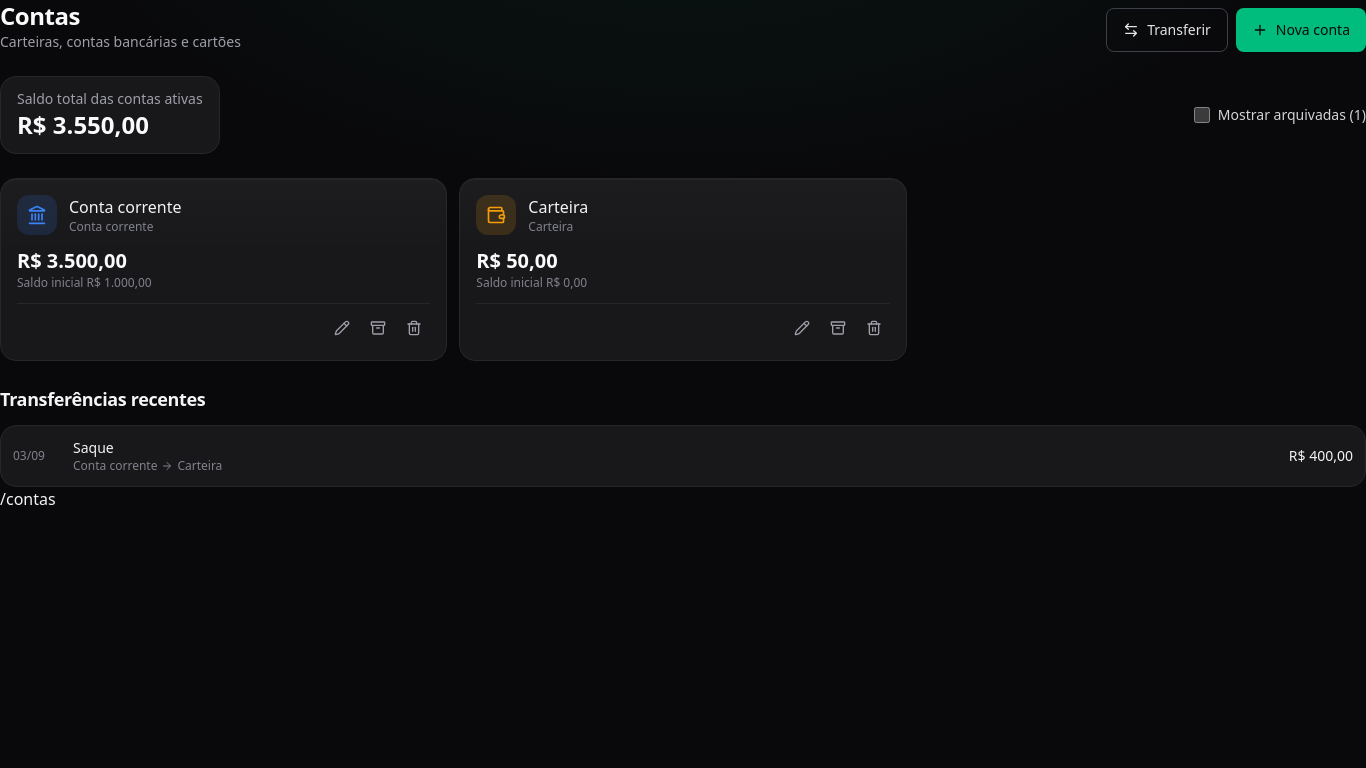
Test case: AccountsPage › explains why an account with movements cannot be deleted
Click the button named "Excluir Carteira". click: point(874, 328)
box: [858,312,890,344]
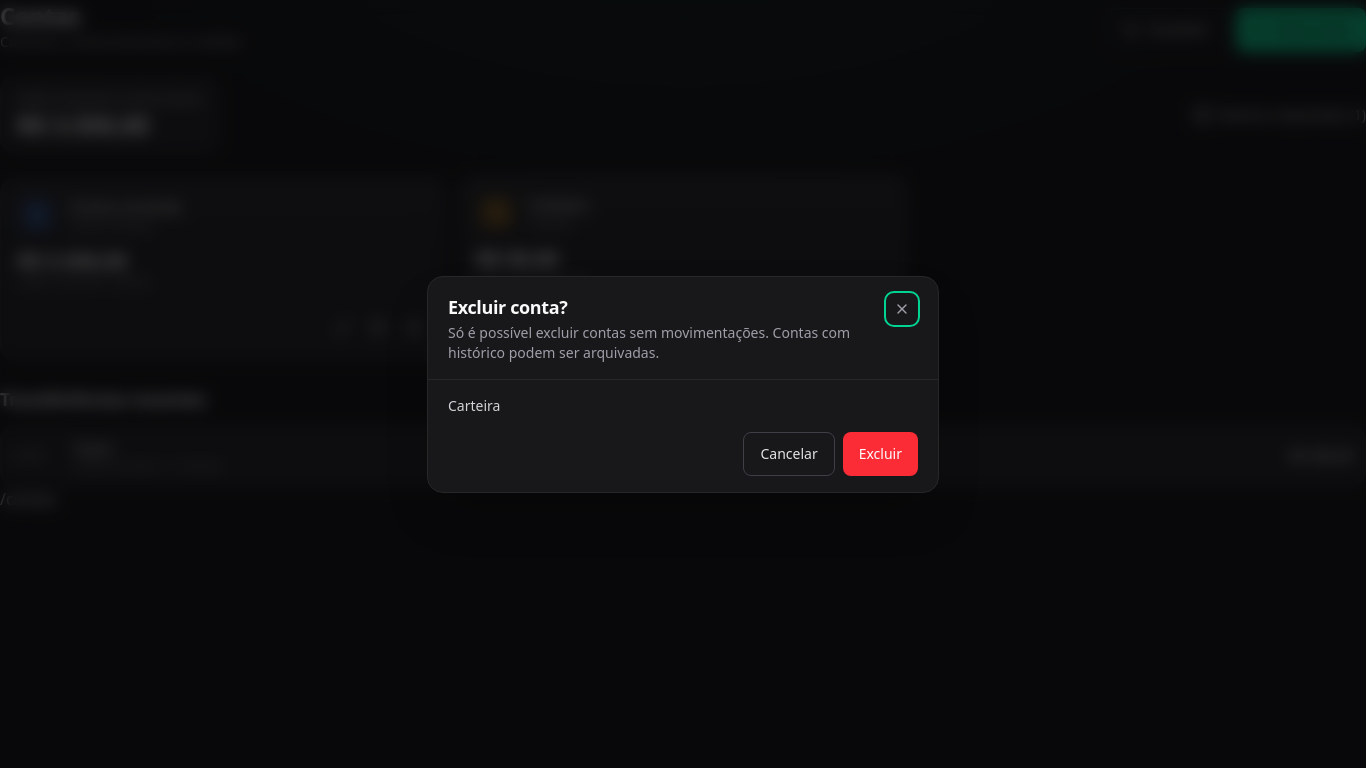
Click the button "Excluir". click: point(880, 454)
box: [843,432,918,476]
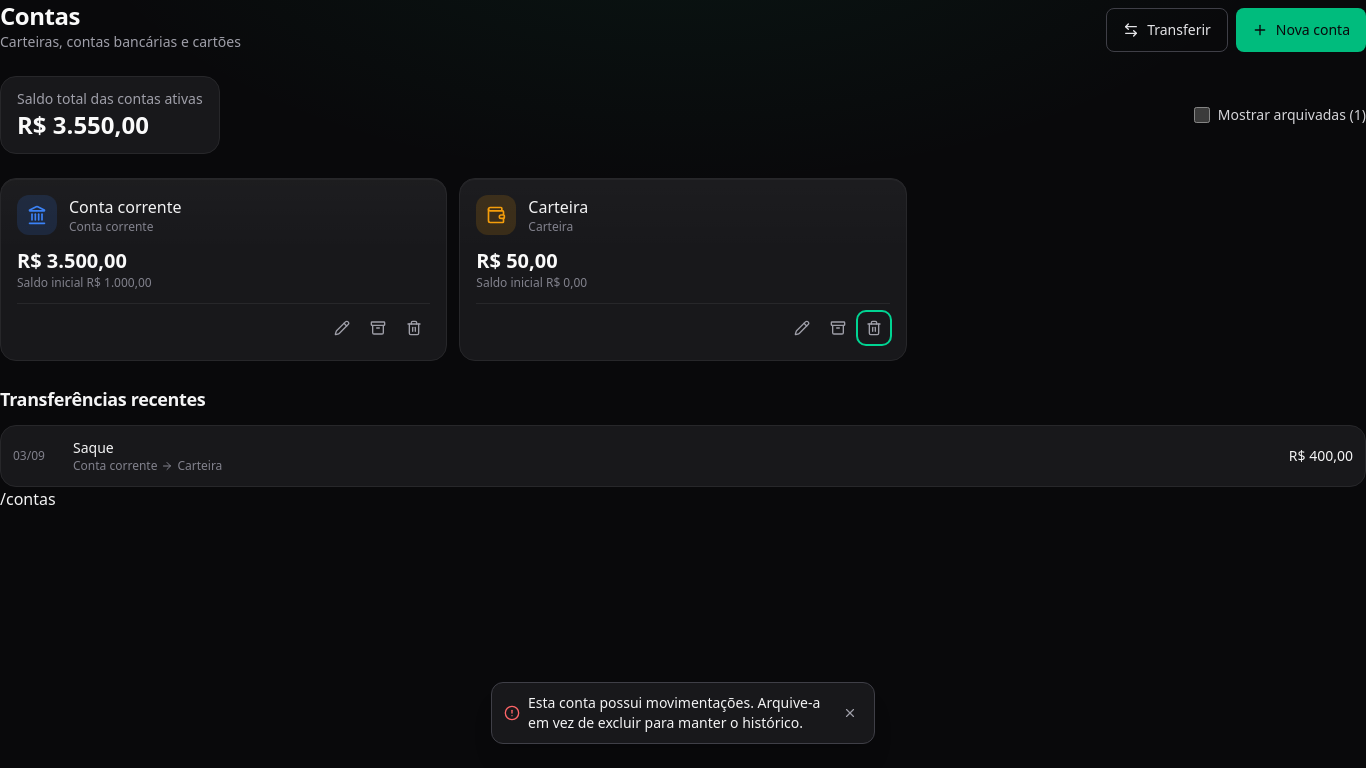
expect the text "Arquive-a em vez de excluir" is shown: met, box [528,693,820,732]
